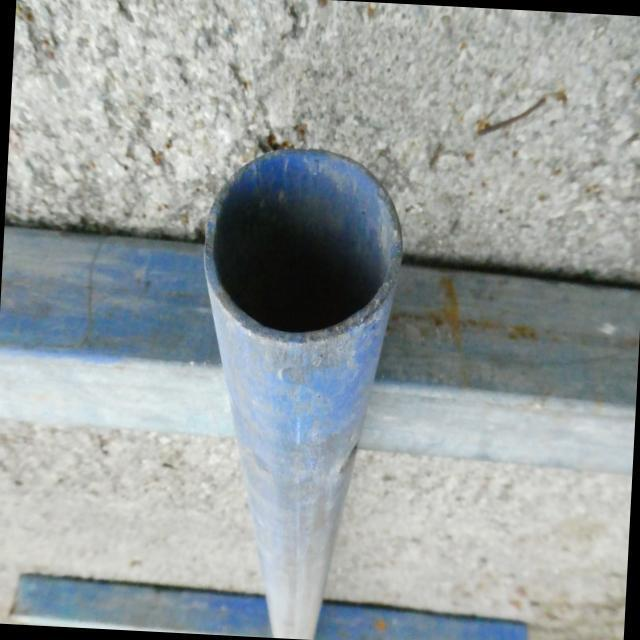pipe: (204, 146, 403, 341)
